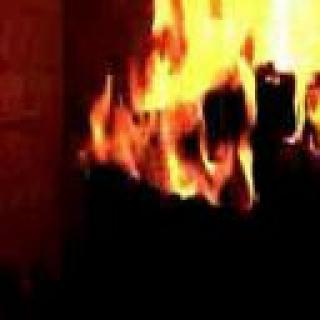fire: (142, 0, 320, 145)
